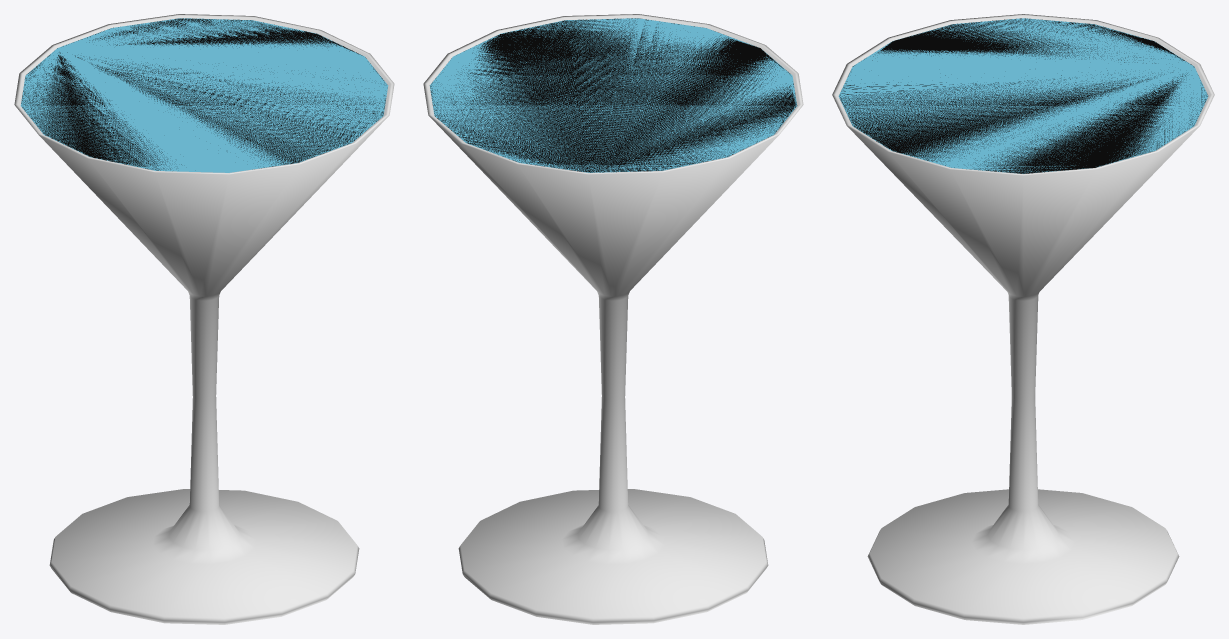
The model's file is MartiniGlass.fbx.
The picture shows the model from 3 angles, left to right: view 1: azimuth 30°, elevation 25°; view 2: azimuth 150°, elevation 25°; view 3: azimuth 270°, elevation 25°; orthographic projection.
Parts seen in each view (by area): view 1: Container, Liquid, Exit; view 2: Container, Exit, Liquid; view 3: Container, Liquid, Exit.
Part boxes in pixels (box(x1,y1,x2,y2)): Container: box(14, 14, 394, 624); Liquid: box(20, 18, 388, 172); Exit: box(21, 18, 385, 170); Container: box(423, 14, 803, 624); Exit: box(430, 18, 797, 172); Liquid: box(430, 18, 796, 172); Container: box(832, 14, 1214, 624); Liquid: box(838, 18, 1208, 173); Exit: box(839, 18, 1207, 173).
Size of what is drawn, in the model's own units: 9.96 by 13.36 by 9.96.
